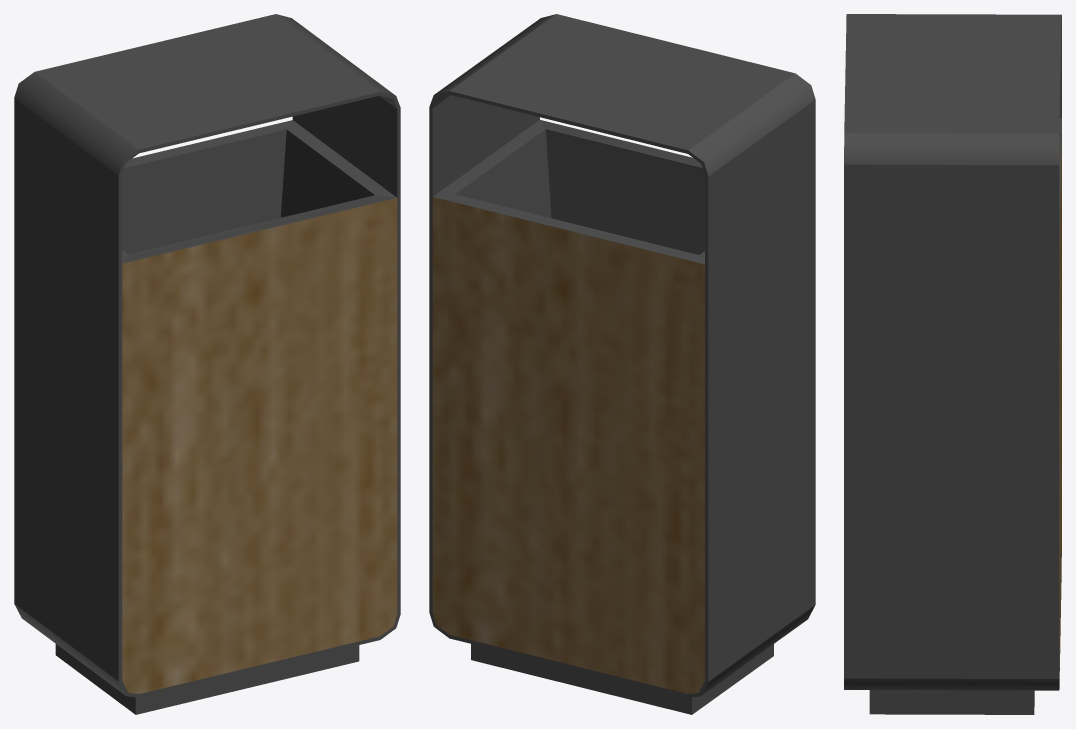
The model's file is урна.glb.
3 views of the same model, side by side, from view 1: azimuth 30°, elevation 25°; view 2: azimuth 150°, elevation 25°; view 3: azimuth 270°, elevation 25° (orthographic).
Visible parts, largest first — view 1: Object015; view 2: Object015; view 3: Object015.
Boxes of the visible parts, x1=… form: Object015: x1=14, y1=14, x2=400, y2=714; Object015: x1=429, y1=14, x2=815, y2=714; Object015: x1=844, y1=14, x2=1061, y2=714.
Size of the model in its own units: 0.4009 by 0.7823 by 0.2637.
1 material, 1 textured.
